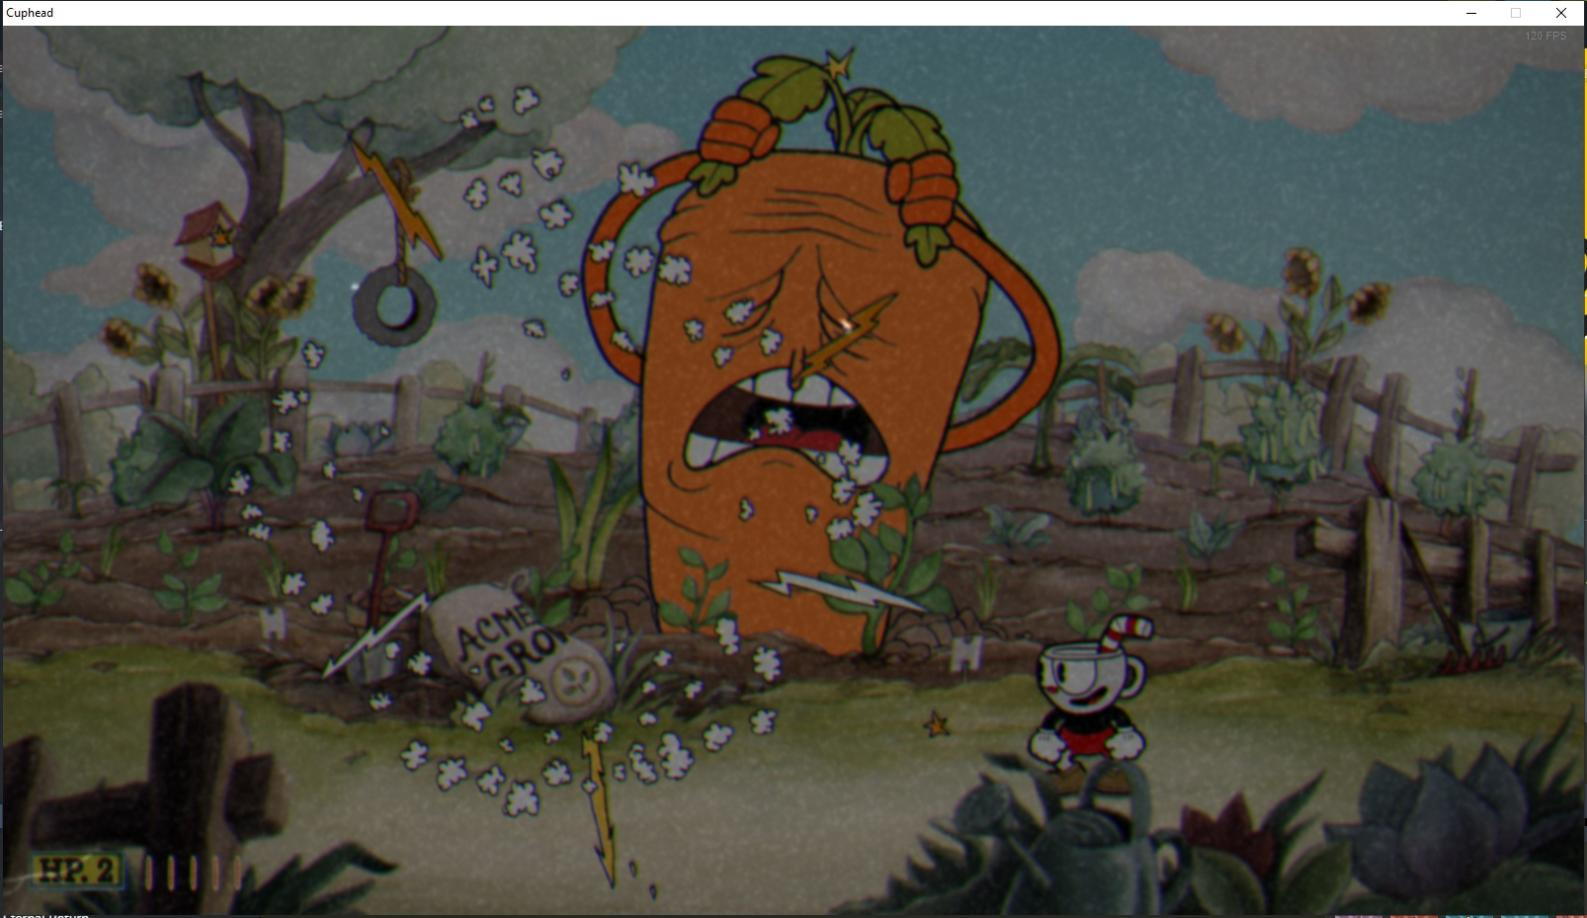hp2: (92, 853, 122, 888)
player: (1033, 610, 1155, 798)
